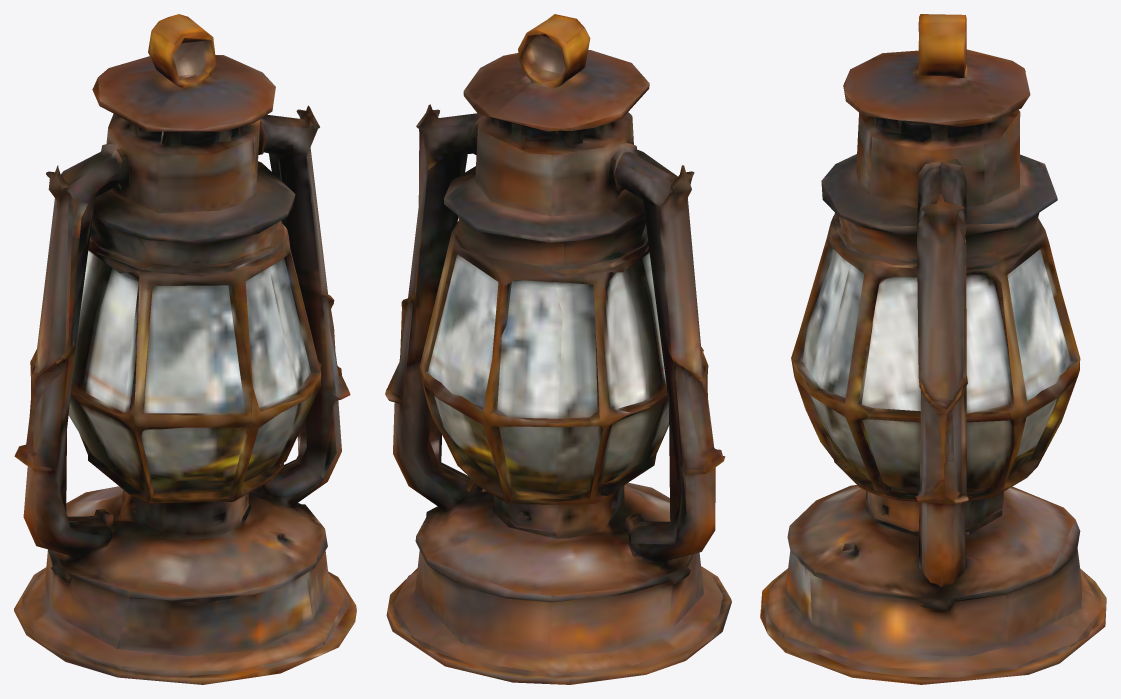
File: lantern.glb
3 views of the same model, side by side, from view 1: azimuth 30°, elevation 25°; view 2: azimuth 150°, elevation 25°; view 3: azimuth 270°, elevation 25° (orthographic).
Parts seen in each view (by area): view 1: model; view 2: model; view 3: model.
Part boxes in pixels (bbox=[...]): model: bbox=[14, 14, 356, 684]; model: bbox=[385, 14, 731, 684]; model: bbox=[760, 14, 1106, 684].
Size of the model in its own units: 1.03 by 1.78 by 0.9393.
1 material, 1 textured.
